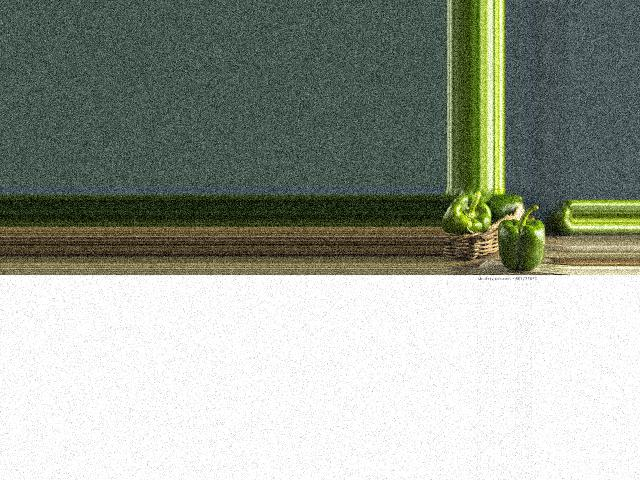bell_pepper: (554, 200, 573, 229)
